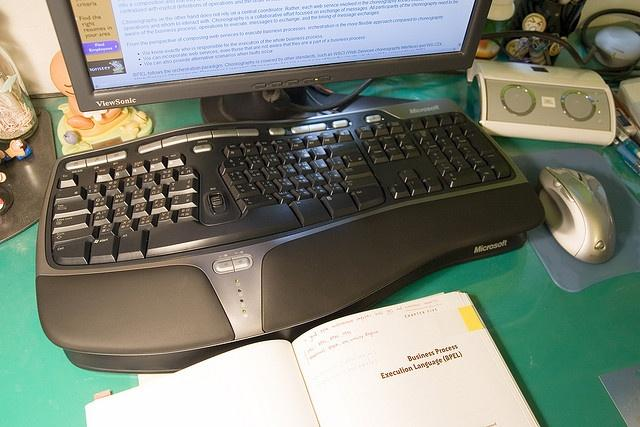AIO PC-Monitor-TV: (41, 0, 494, 144)
